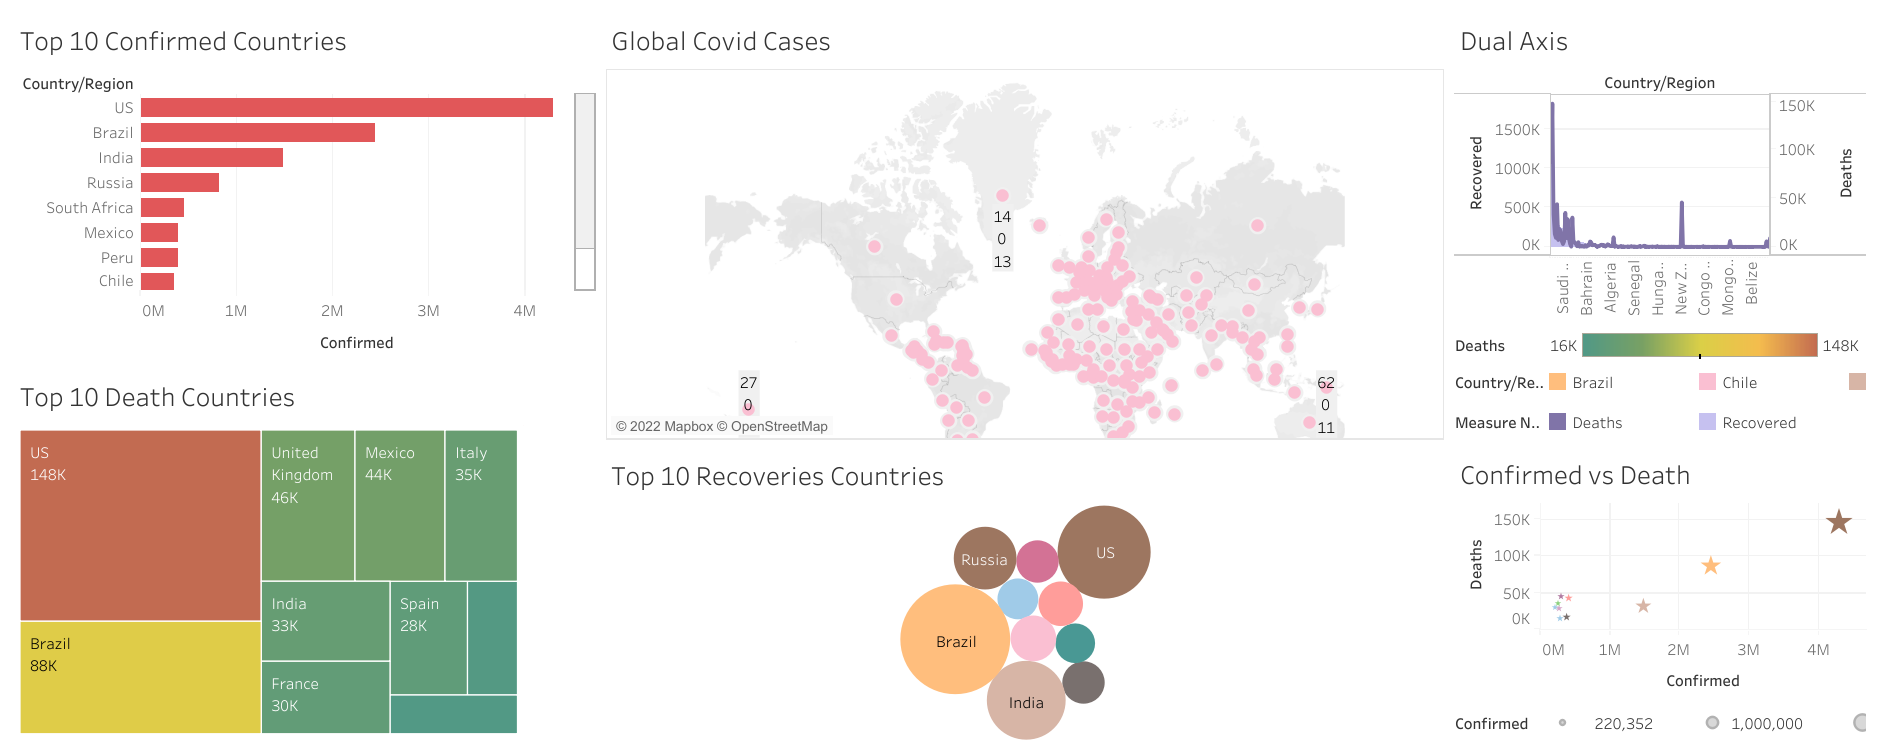

The page's visual inventory and layout, read from the dashboard file:
{"tool":"tableau","page":{"name":"Dashboard 1","canvas":[1000,1000],"units":"permille","ordinal":0},"visuals":[{"type":"worksheet","title":"Sheet 1","mark":"Automatic","rows":["Country/Region"],"cols":["Confirmed"],"box":[4.9,10.5,322.4,473.7]},{"type":"worksheet","title":"Sheet 2","mark":"Automatic","box":[327.3,10.5,463.6,578.9]},{"type":"worksheet","title":"Sheet 6","mark":"Bar","rows":["Recovered","Deaths"],"cols":["Country/Region"],"box":[790.9,10.5,204.2,452]},{"type":"legend","title":"Sheet 3","param":"[federated.01fljxj1b9om7e11ol7ex1hklaho].[sum:Deaths:qk]","box":[790.9,462.6,204.2,42.1]},{"type":"worksheet","title":"Sheet 3","mark":"Automatic","box":[4.9,484.2,322.4,505.3]},{"type":"legend","title":"Sheet 4","param":"[federated.01fljxj1b9om7e11ol7ex1hklaho].[none:Country/Region:nk]","box":[790.9,504.7,204.2,42.1]},{"type":"legend","title":"Sheet 6","param":"[federated.01fljxj1b9om7e11ol7ex1hklaho].[:Measure Names]","box":[790.9,546.8,204.2,42.1]},{"type":"worksheet","title":"Sheet 5","mark":"Automatic","rows":["Deaths"],"cols":["Confirmed"],"box":[790.9,588.9,204.2,358.5]},{"type":"worksheet","title":"Sheet 4","mark":"Circle","box":[327.3,589.5,463.6,400]},{"type":"legend","title":"Sheet 5","param":"[federated.01fljxj1b9om7e11ol7ex1hklaho].[sum:Confirmed:qk]","box":[790.9,947.4,204.2,42.1]}]}

Visuals, with their boxes on the dashboard's canvas, which has no fixed pixel size, in thousandths of its width and height (x1, y1, x2, y2). These are canvas units, not pixel positions in the 1880x754 screenshot, which may show the page scaled, cropped or inside an application window:
"Sheet 1" worksheet: [x1=5, y1=10, x2=327, y2=484]
"Sheet 2" worksheet: [x1=327, y1=10, x2=791, y2=589]
"Sheet 6" worksheet (Bar marks): [x1=791, y1=10, x2=995, y2=462]
"Sheet 3" legend: [x1=791, y1=463, x2=995, y2=505]
"Sheet 3" worksheet: [x1=5, y1=484, x2=327, y2=990]
"Sheet 4" legend: [x1=791, y1=505, x2=995, y2=547]
"Sheet 6" legend: [x1=791, y1=547, x2=995, y2=589]
"Sheet 5" worksheet: [x1=791, y1=589, x2=995, y2=947]
"Sheet 4" worksheet (Circle marks): [x1=327, y1=590, x2=791, y2=990]
"Sheet 5" legend: [x1=791, y1=947, x2=995, y2=990]
